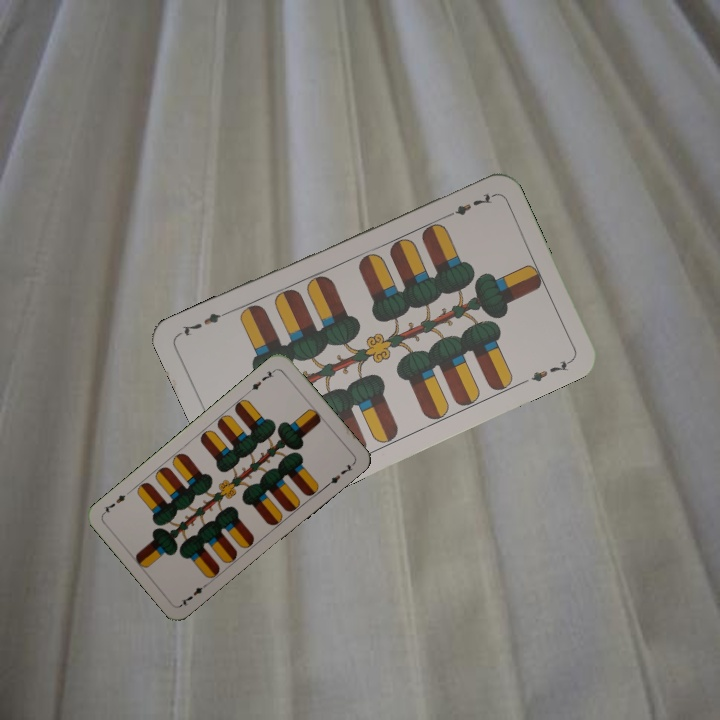E7: (440, 189, 496, 221), (244, 365, 279, 395), (177, 579, 211, 608)
